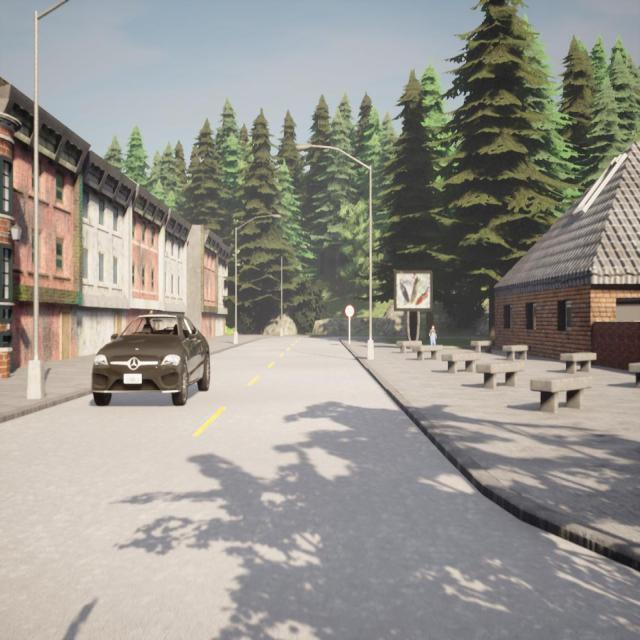Pedestrian: (428, 323, 438, 348)
Traffic_Signs: (345, 304, 355, 317)
Vehicle: (92, 312, 210, 406)
